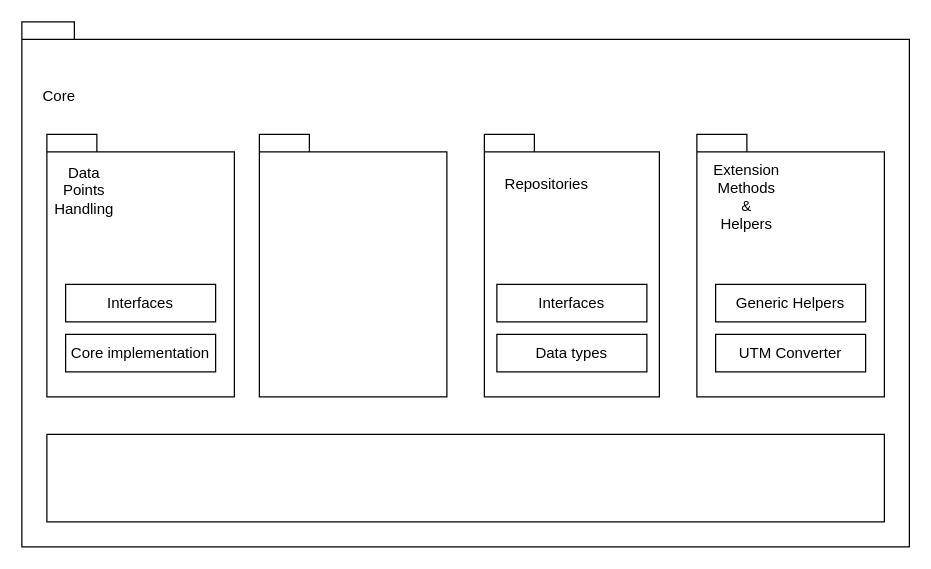
Some shapes in this 931 by 569 pixel diagram are drawn without their labels. Here are the shapes that lost their labels. From the top down, the centre of each, then its label:
the point at 352,265: Generic Interfaces
the point at 465,477: Core Containers
